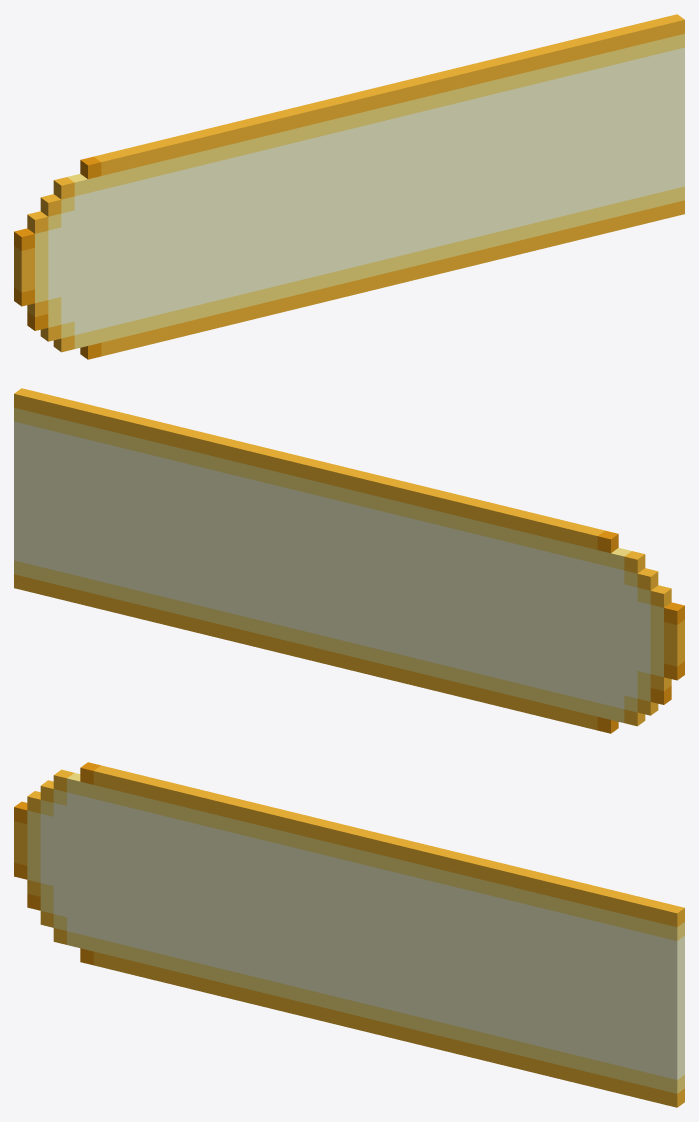
File: Fight_009_2_15_fx.obj
3 views of the same model, one above another, from view 1: azimuth 30°, elevation 25°; view 2: azimuth 150°, elevation 25°; view 3: azimuth 330°, elevation 25° (orthographic).
Size of the model in its own units: 5 by 1.4 by 0.1.
